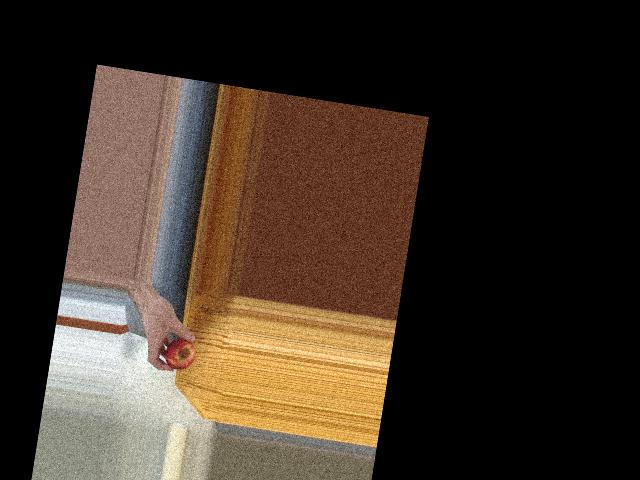apple: (157, 327, 200, 374)
